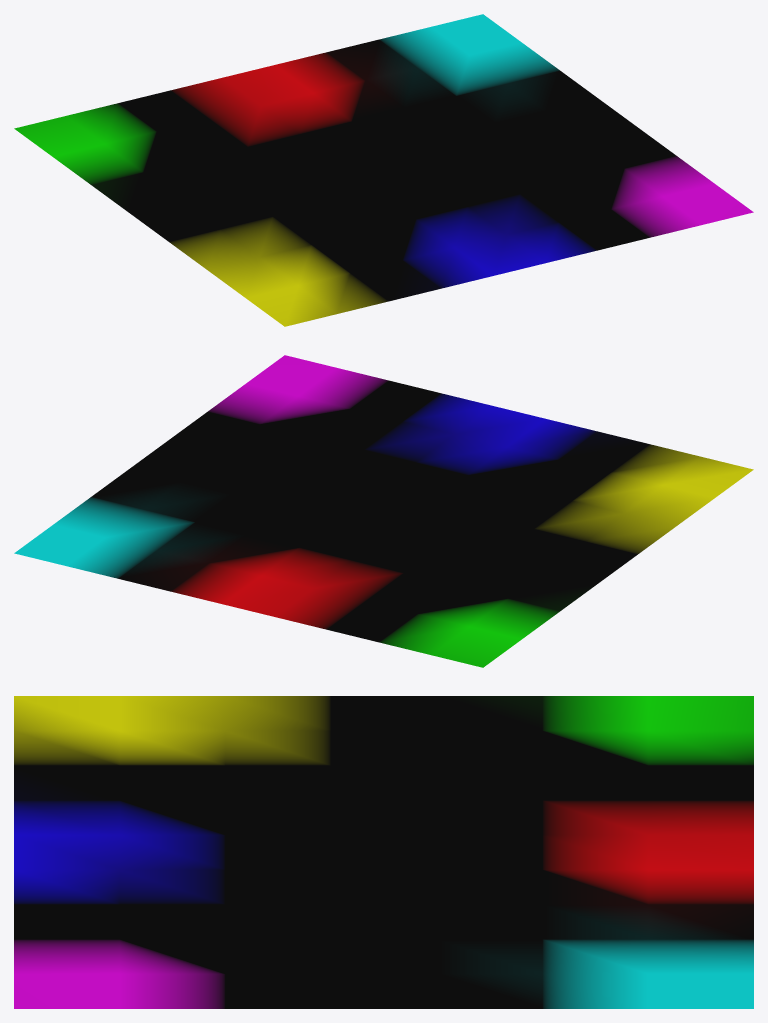
File: Color_Sample_Square.fbx
3 renders of one model, top to bottom at view 1: azimuth 30°, elevation 25°; view 2: azimuth 150°, elevation 25°; view 3: azimuth 270°, elevation 25°, orthographic. The views are drawn at different scales.
Visible parts, largest first — view 1: ColorSample_Clean; view 2: ColorSample_Clean; view 3: ColorSample_Clean.
Part boxes in pixels (bbox=[...]): ColorSample_Clean: bbox=[14, 14, 753, 326]; ColorSample_Clean: bbox=[14, 355, 753, 667]; ColorSample_Clean: bbox=[14, 696, 753, 1008].
Bounding box in the file's own units: 200 × 3.26e-05 × 200.
